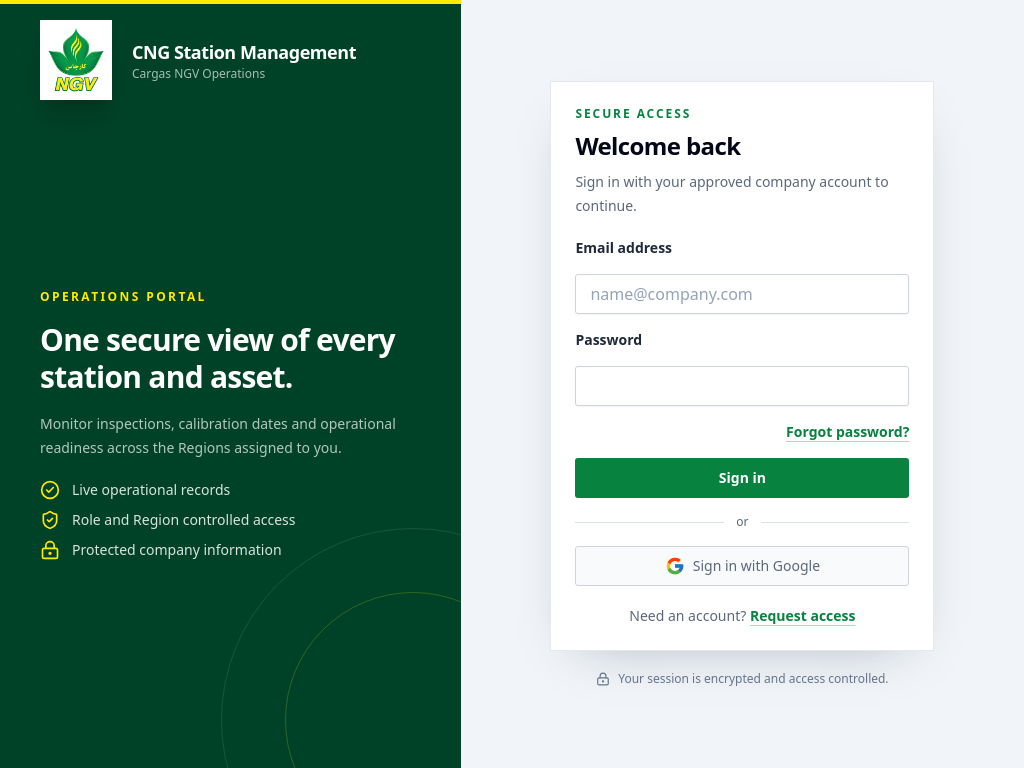
Scenario: authentication experience › maps provider failures to a safe sign-in message
This screenshot has width=1024, height=768.
Type "test@example.invalid" into the field labelled "Email address" at (742, 294), box [575, 274, 909, 314]
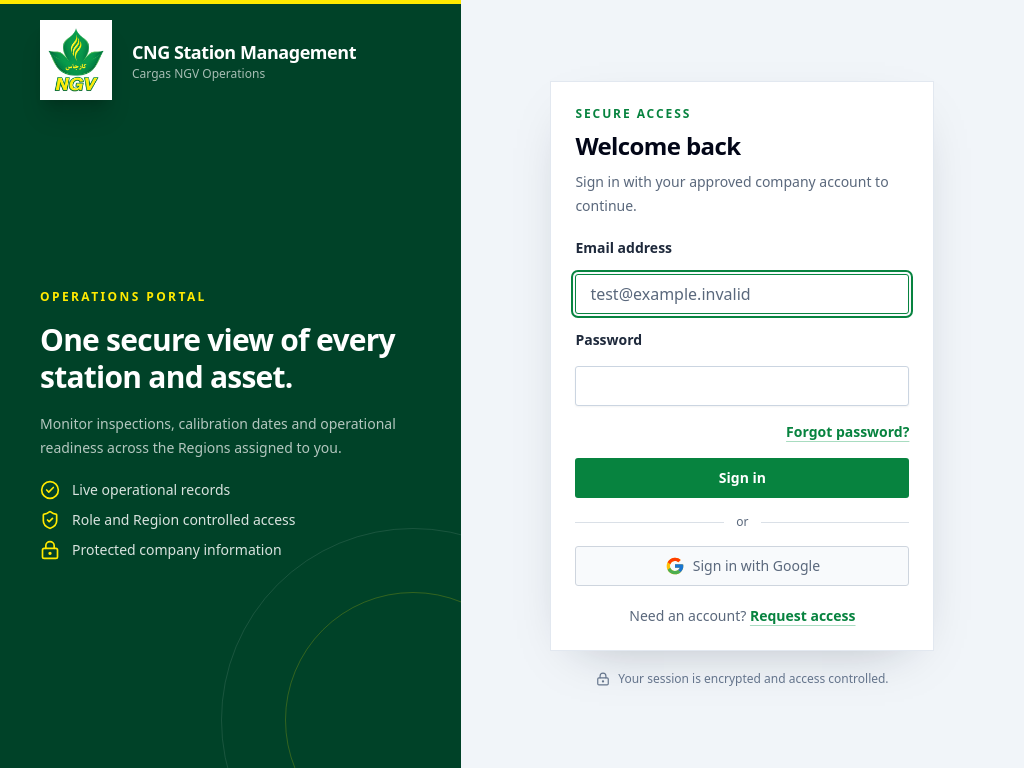
Type "not-a-real-password" into the password field labelled "Password" at (742, 386), box [575, 366, 909, 406]
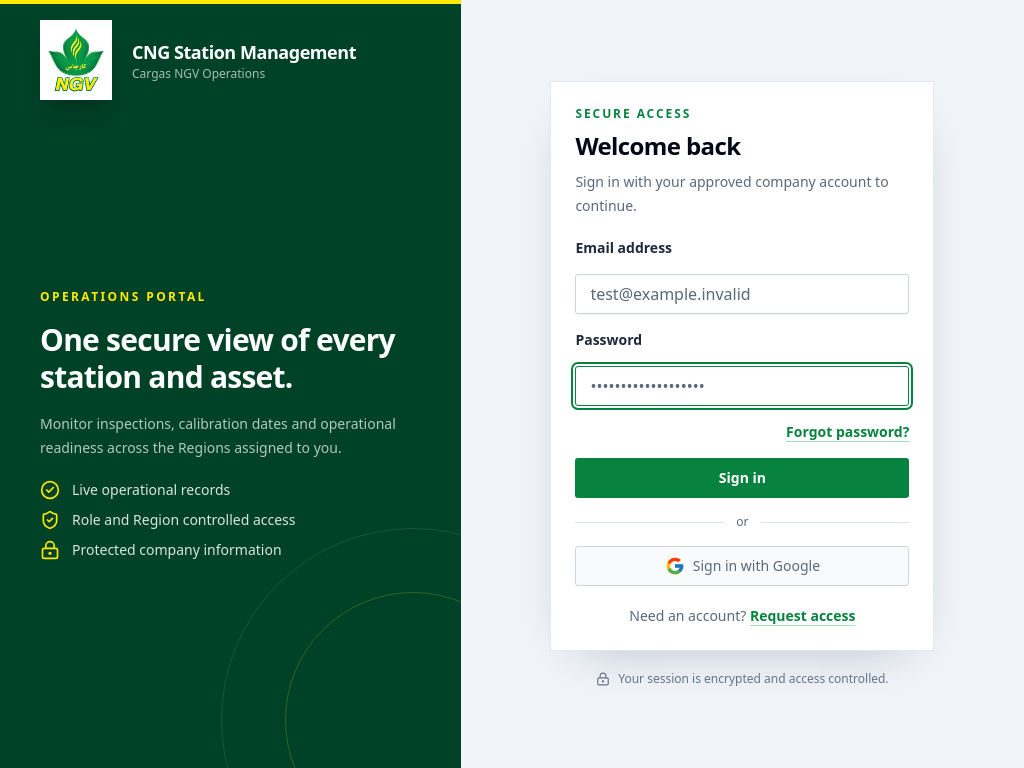
Click the button "Sign in" at (742, 478), box [575, 458, 909, 498]
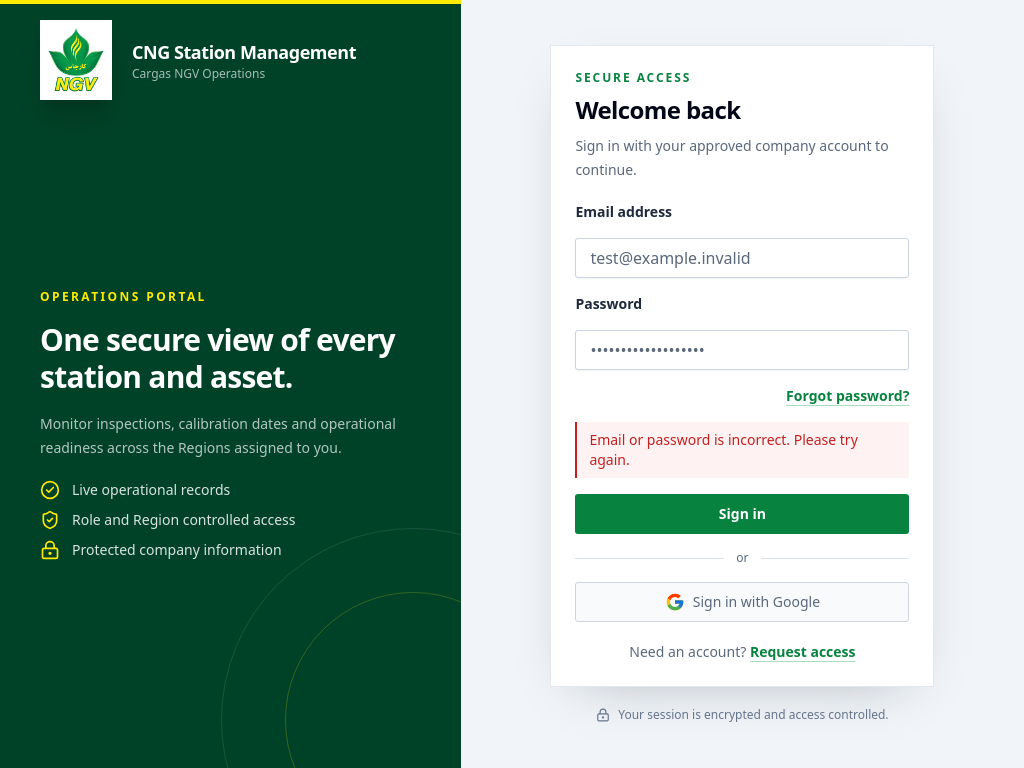
expect the message reads "Email or password is incorrect. Please try again.": met, box [589, 430, 858, 469]
